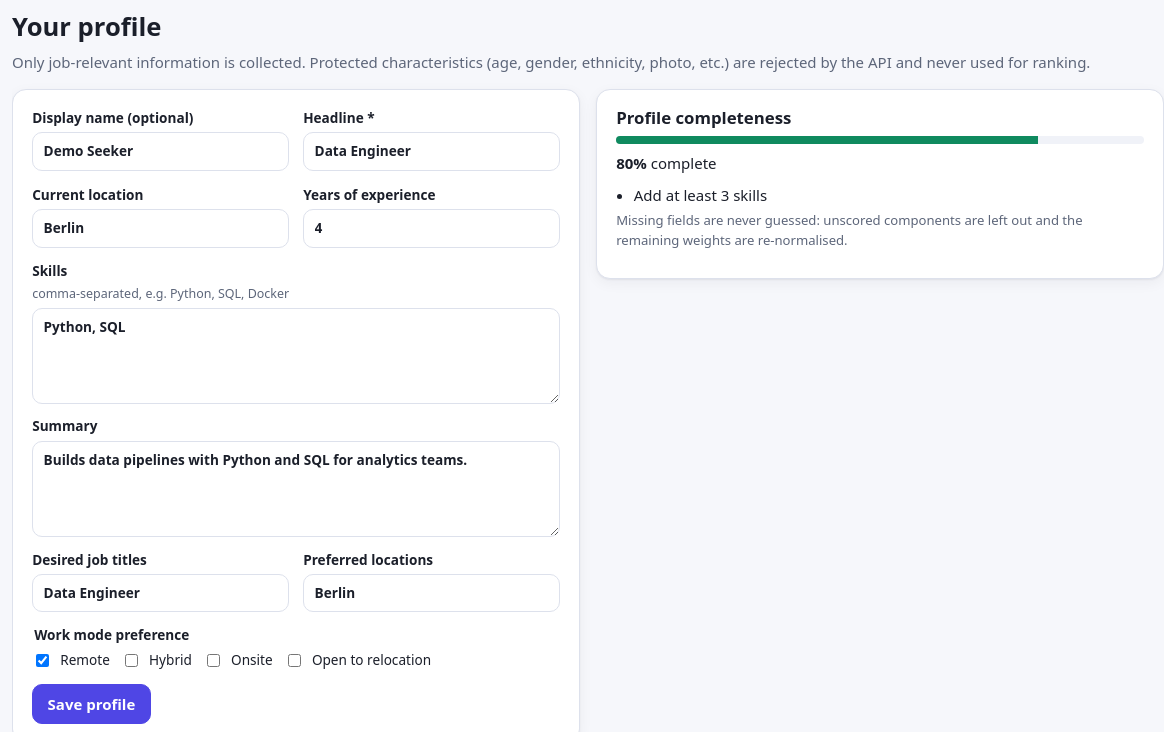
Test: Profile page › displays server-side validation errors next to the field
The image size is (1164, 732).
Replace the text in the field labelled "Headline *" with "x" at point(432, 151), box [303,132,560,171]
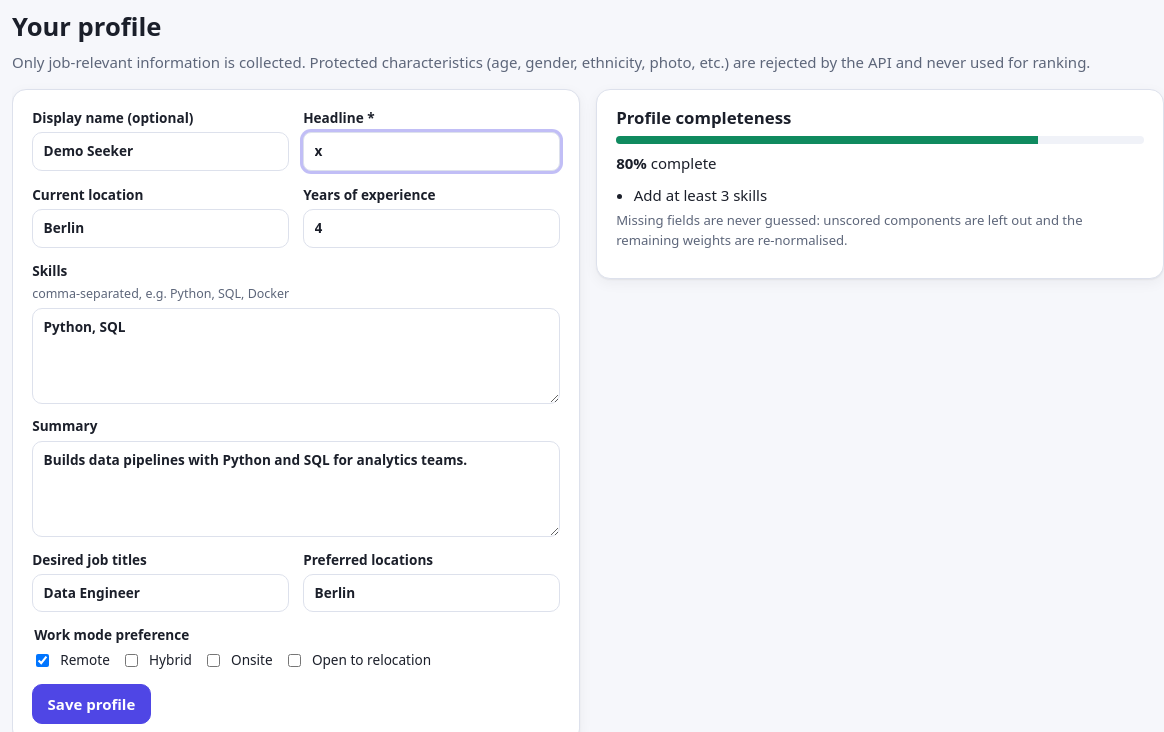
Click the button "Save profile".
click(91, 704)  # box [32,684,151,724]
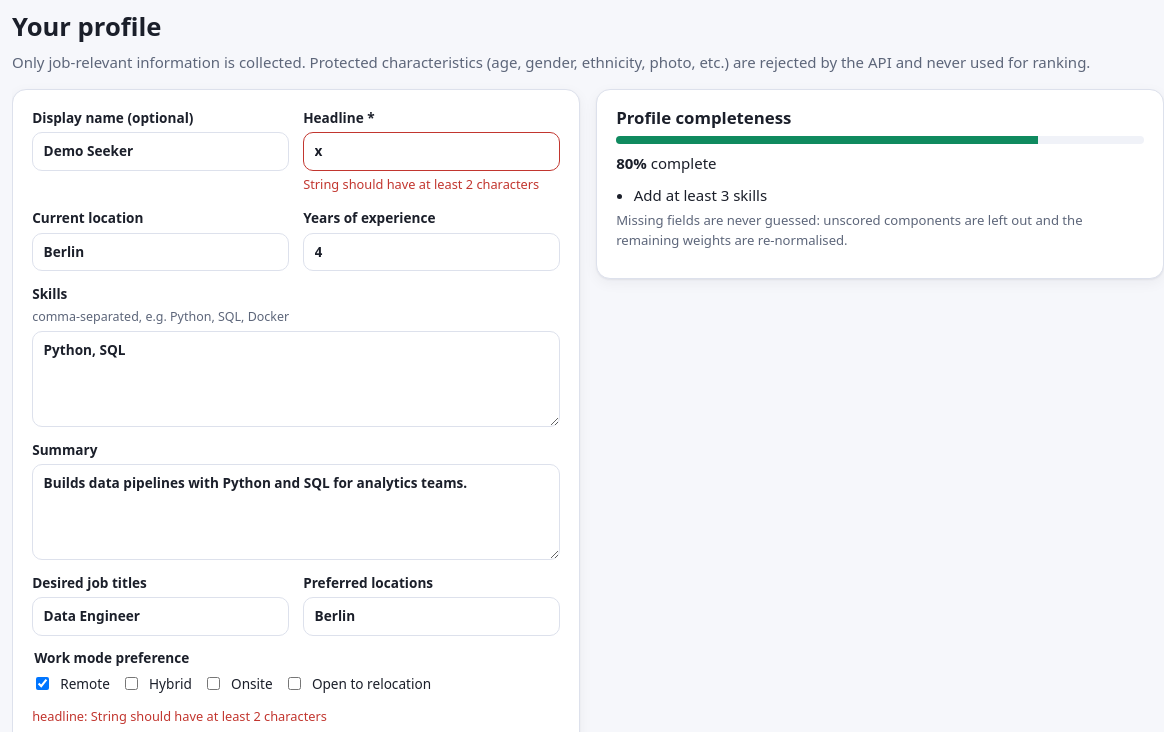
Expected: the text "String should have at least 2 characters" is shown, [303,175,560,194]
